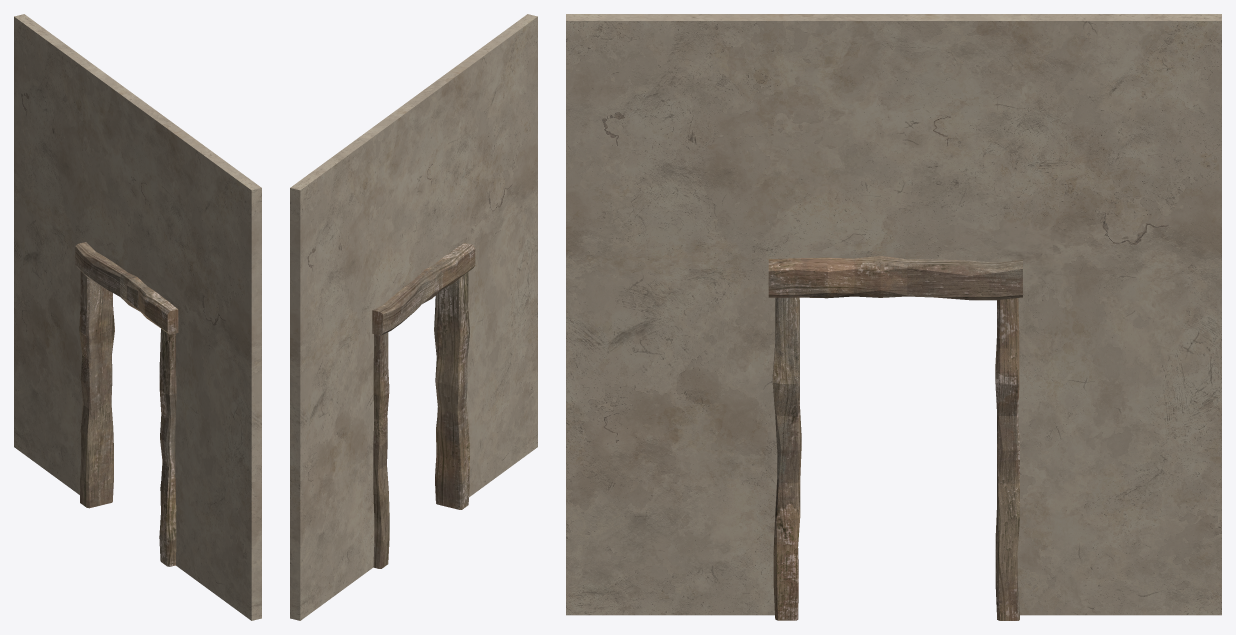
Rendered from SM_Wall_Door_02.fbx.
3 views of the same model, side by side, from view 1: azimuth 30°, elevation 25°; view 2: azimuth 150°, elevation 25°; view 3: azimuth 270°, elevation 25° (orthographic). The views are drawn at different scales.
Visible parts, largest first — view 1: SM_Wall_Door_02_LOD0; view 2: SM_Wall_Door_02_LOD0; view 3: SM_Wall_Door_02_LOD0.
Boxes of the visible parts, <box> form: SM_Wall_Door_02_LOD0: <box>14,14,261,620</box>; SM_Wall_Door_02_LOD0: <box>290,14,537,620</box>; SM_Wall_Door_02_LOD0: <box>566,14,1221,620</box>.
Size of the model in its own units: 35.34 by 400 by 400.
